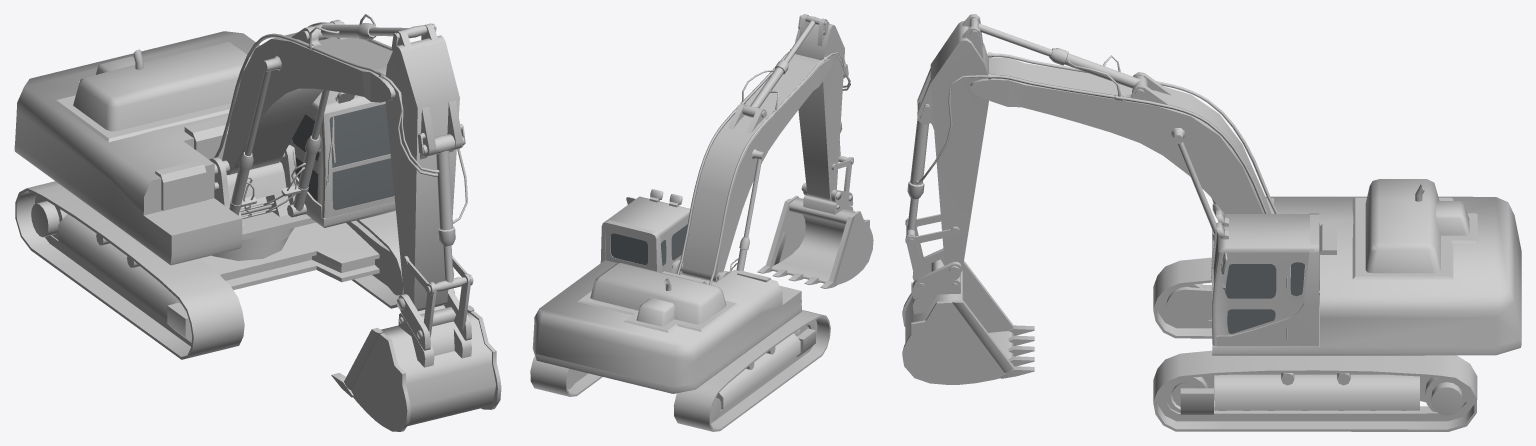
Rendered from HydraulicExcavator_LOD2.FBX.
The picture shows the model from 3 angles, left to right: view 1: azimuth 30°, elevation 25°; view 2: azimuth 150°, elevation 25°; view 3: azimuth 270°, elevation 25°; orthographic projection. The views are drawn at different scales.
Visible parts, largest first — view 1: Arm_LOD2, Body_LOD2, Track_LOD2, Windows_LOD2; view 2: Arm_LOD2, Body_LOD2, Track_LOD2, Windows_LOD2; view 3: Arm_LOD2, Body_LOD2, Track_LOD2, Windows_LOD2.
Part boxes in pixels (x1,y1,x2,y2): Arm_LOD2: [209, 14, 501, 431]; Body_LOD2: [14, 31, 401, 342]; Track_LOD2: [15, 181, 453, 359]; Windows_LOD2: [292, 104, 394, 210]; Arm_LOD2: [600, 14, 873, 288]; Body_LOD2: [532, 260, 815, 421]; Track_LOD2: [530, 310, 830, 431]; Windows_LOD2: [611, 224, 687, 265]; Arm_LOD2: [902, 14, 1319, 384]; Body_LOD2: [1166, 179, 1521, 415]; Track_LOD2: [1153, 257, 1477, 431]; Windows_LOD2: [1213, 233, 1304, 333].
Bounding box in the file's own units: 5.37 × 7.52 × 12.09.
